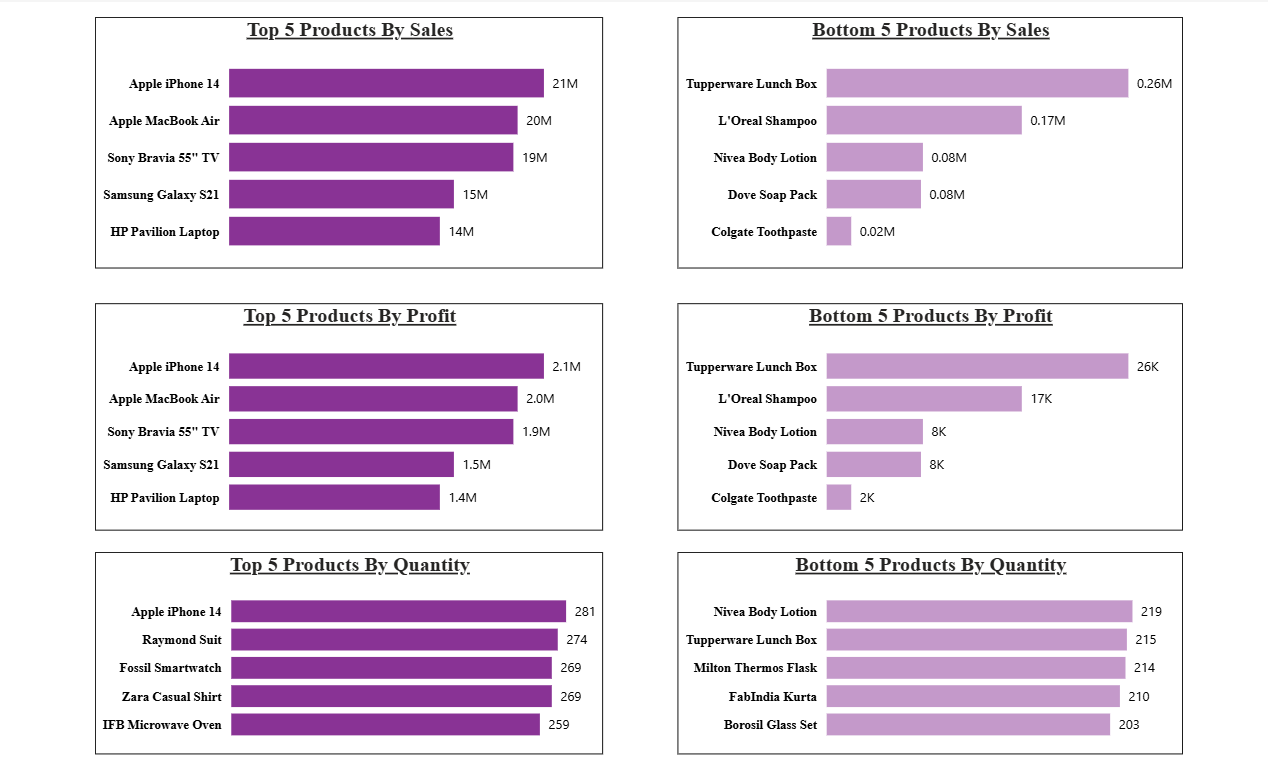

This screenshot's page, from the dashboard's own definition file:
{"tool":"powerbi","page":{"name":"Top/Bottom 5 Analysis","canvas":[1280,720],"ordinal":1},"visuals":[{"type":"barChart","title":"Top 5 Products By Sales","fields":{"Category":["Dim Product.Product Name"],"Y":["Sum(Fact Table.Net Sales)"]},"box":[9.6,13.7,472,233.3],"z":0},{"type":"barChart","title":"Bottom 5 Products By Sales","fields":{"Category":["Dim Product.Product Name"],"Y":["Sum(Fact Table.Net Sales)"]},"box":[550.3,13.7,469.3,233.3],"z":1000},{"type":"barChart","title":"Top 5 Products By Profit","fields":{"Category":["Dim Product.Product Name"],"Y":["Sum(Fact Table.Profit)"]},"box":[9.6,279.9,472,211.3],"z":2000},{"type":"barChart","title":"Bottom 5 Products By Profit","fields":{"Category":["Dim Product.Product Name"],"Y":["Sum(Fact Table.Profit)"]},"box":[550.3,279.9,469.3,211.3],"z":3000},{"type":"barChart","title":"Top 5 Products By Quantity","fields":{"Category":["Dim Product.Product Name"],"Y":["Sum(Fact Table.Units Sold)"]},"box":[9.6,510.5,472,188],"z":4000},{"type":"barChart","title":"Bottom 5 Products By Quantity","fields":{"Category":["Dim Product.Product Name"],"Y":["Sum(Fact Table.Units Sold)"]},"box":[550.3,510.5,469.3,188],"z":5000}]}

Visuals, with their boxes on the page's 1280x720 design canvas (x1, y1, x2, y2). These are canvas units, not pixel positions in the 1268x775 screenshot, which may show the page scaled, cropped or inside an application window:
"Top 5 Products By Sales" barChart: left=10, top=14, right=482, bottom=247
"Bottom 5 Products By Sales" barChart: left=550, top=14, right=1020, bottom=247
"Top 5 Products By Profit" barChart: left=10, top=280, right=482, bottom=491
"Bottom 5 Products By Profit" barChart: left=550, top=280, right=1020, bottom=491
"Top 5 Products By Quantity" barChart: left=10, top=510, right=482, bottom=698
"Bottom 5 Products By Quantity" barChart: left=550, top=510, right=1020, bottom=698
